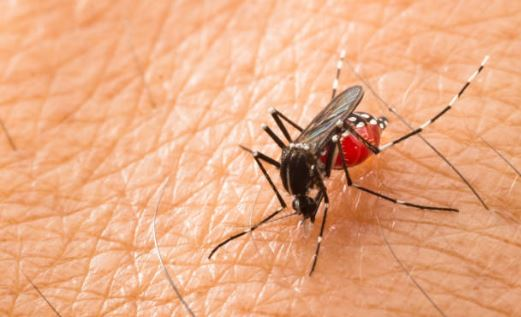dengue_mosquito: (239, 49, 459, 242)
